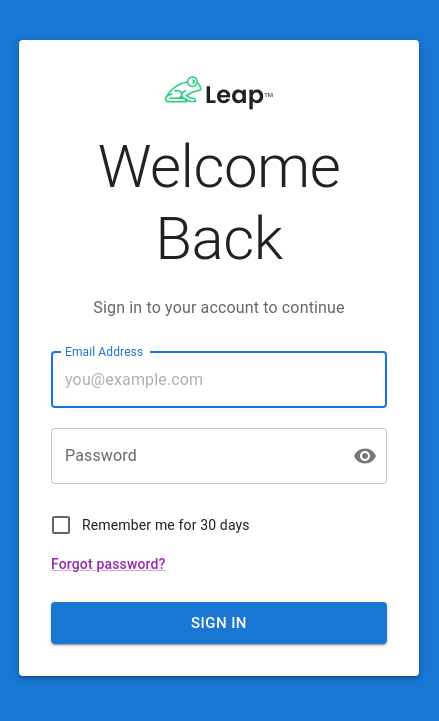
App Integration Tests › Login Page › should display validation errors for empty form submission
The width and height of the screenshot is (439, 721).
Expected: the heading "Welcome Back" is shown, [98,131,340,274]
# Click sign in without filling form
Click the button "Sign In": coordinates (219, 623) [51,602,387,644]
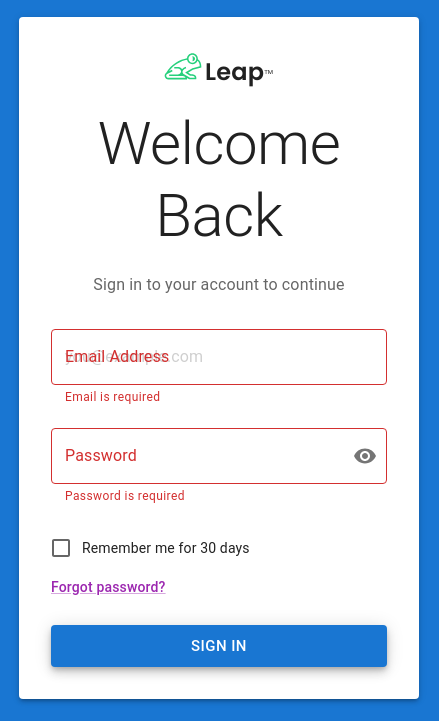
Now the text "Email is required" is shown, box [65,390,160,404]
Now the text "Password is required" is shown, box [65,489,185,503]
